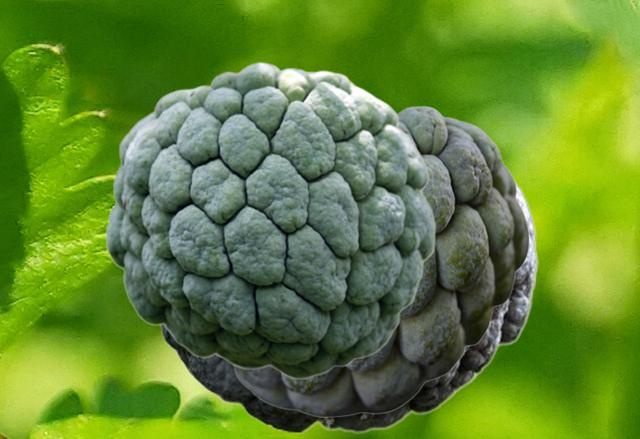atis: (156, 70, 537, 432), (105, 61, 435, 379), (215, 104, 528, 416)
